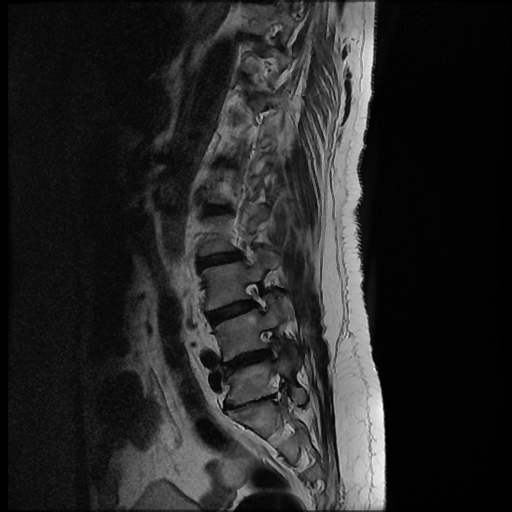LFS0: (240, 274, 276, 321)
LFS2: (252, 322, 288, 370)
